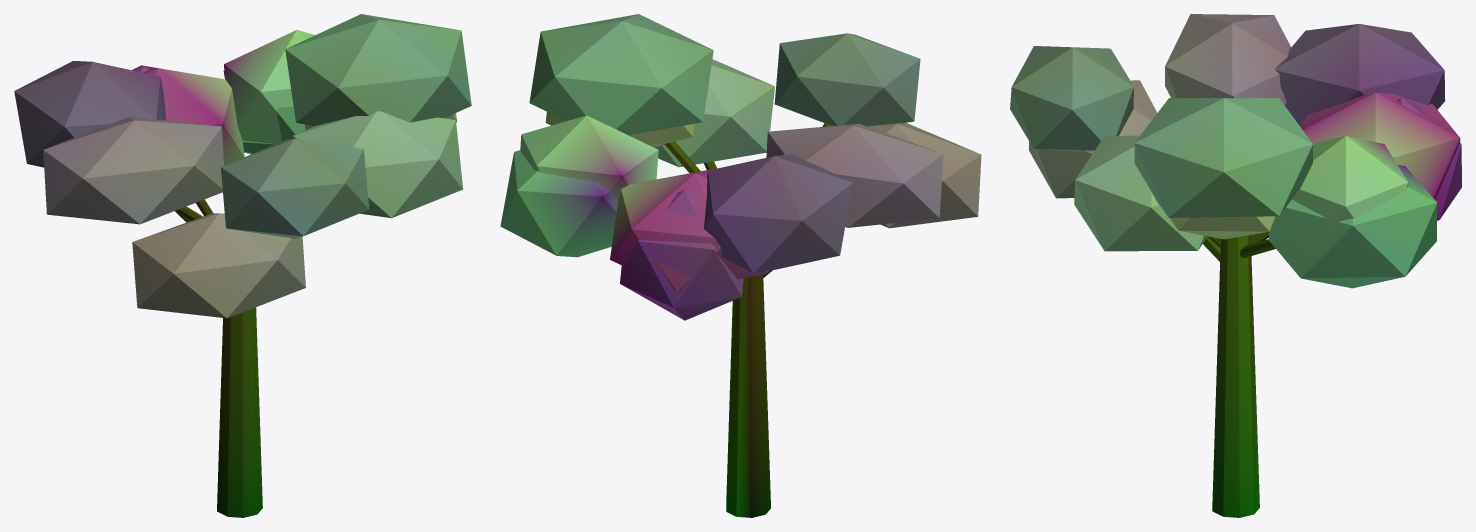
Rendered from mature_broadleaf_01.glb.
3 renders of one model, left to right at view 1: azimuth 30°, elevation 25°; view 2: azimuth 150°, elevation 25°; view 3: azimuth 270°, elevation 25°, orthographic. The views are drawn at different scales.
Parts seen in each view (by area): view 1: mature_broadleaf_01; view 2: mature_broadleaf_01; view 3: mature_broadleaf_01.
Part boxes in pixels (x1=…): mature_broadleaf_01: x1=14, y1=14, x2=471, y2=517; mature_broadleaf_01: x1=500, y1=14, x2=981, y2=517; mature_broadleaf_01: x1=1010, y1=14, x2=1461, y2=517.
Bounding box in the file's own units: 9.79 × 10.48 × 8.99.
